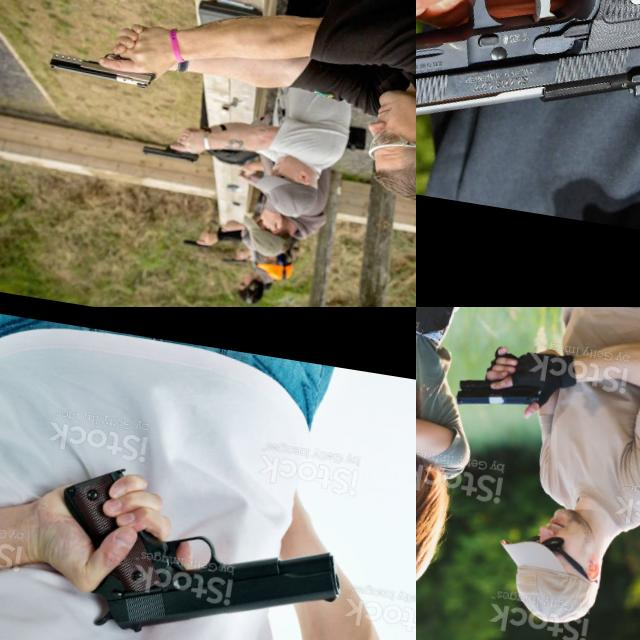handgun: (38, 458, 357, 640), (416, 0, 640, 219), (45, 40, 159, 91), (450, 368, 548, 420), (416, 382, 454, 437)
